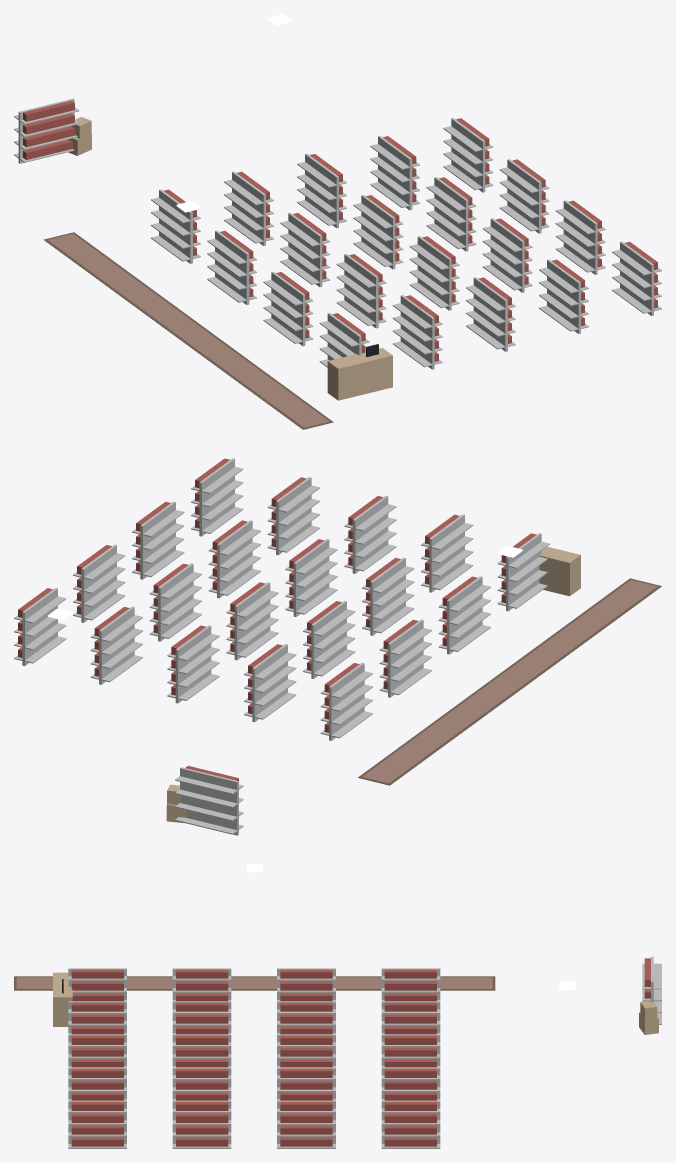
Rendered from fine-s0.glb.
The picture shows the model from 3 angles, top to bottom: view 1: azimuth 30°, elevation 25°; view 2: azimuth 150°, elevation 25°; view 3: azimuth 270°, elevation 25°; orthographic projection. The views are drawn at different scales.
Visible parts, largest first — view 1: soft-s0, shelving.000, shop-counter.000, shelf.009, shelf.010, shelf.016, shelf.017, shelf.013, shelf.014, shelf.002, shelf.005, shelf.018 (+12 smaller); view 2: soft-s0, shelving.000, shelf.008, shelf.010, shelf.002, shelf.009, shelf.000, shelf.011, shelf.013, shelf.014, shelf.012, shelf.015 (+11 smaller); view 3: soft-s0, shelf.016, shelf.018, shelf.017, shelf.019, shelf.012, shelf.014, shelf.000, shelf.002, shelf.004, shelf.006, shelf.008 (+12 smaller).
Part boxes in pixels (bbox=[...]): soft-s0: bbox=[44, 232, 333, 429]; shelving.000: bbox=[14, 98, 79, 163]; shop-counter.000: bbox=[327, 344, 392, 400]; shelf.009: bbox=[353, 195, 403, 269]; shelf.010: bbox=[409, 236, 459, 310]; shelf.016: bbox=[443, 118, 493, 192]; shelf.017: bbox=[499, 159, 549, 233]; shelf.013: bbox=[426, 177, 476, 251]; shelf.014: bbox=[482, 218, 532, 292]; shelf.002: bbox=[263, 271, 313, 346]; shelf.005: bbox=[280, 212, 330, 287]; shelf.018: bbox=[555, 200, 605, 274]; soft-s0: bbox=[358, 578, 661, 785]; shelving.000: bbox=[175, 765, 243, 835]; shelf.008: bbox=[167, 625, 219, 703]; shelf.010: bbox=[285, 539, 337, 616]; shelf.002: bbox=[438, 576, 490, 654]; shelf.009: bbox=[226, 582, 278, 660]; shelf.000: bbox=[320, 662, 372, 740]; shelf.011: bbox=[344, 495, 396, 573]; shelf.013: bbox=[149, 563, 201, 641]; shelf.014: bbox=[208, 520, 260, 598]; shelf.012: bbox=[90, 606, 142, 684]; shelf.015: bbox=[267, 477, 319, 555]; soft-s0: bbox=[14, 976, 495, 990]; shelf.016: bbox=[381, 1100, 440, 1148]; shelf.018: bbox=[172, 1100, 231, 1148]; shelf.017: bbox=[277, 1100, 335, 1148]; shelf.019: bbox=[68, 1100, 126, 1148]; shelf.012: bbox=[381, 1067, 440, 1100]; shelf.014: bbox=[172, 1067, 231, 1100]; shelf.000: bbox=[381, 968, 440, 1001]; shelf.002: bbox=[172, 968, 231, 1001]; shelf.004: bbox=[381, 1001, 440, 1034]; shelf.006: bbox=[172, 1001, 231, 1034]; shelf.008: bbox=[381, 1034, 440, 1067].
Size of the model in its own units: 12.75 by 3.93 by 19.87.
